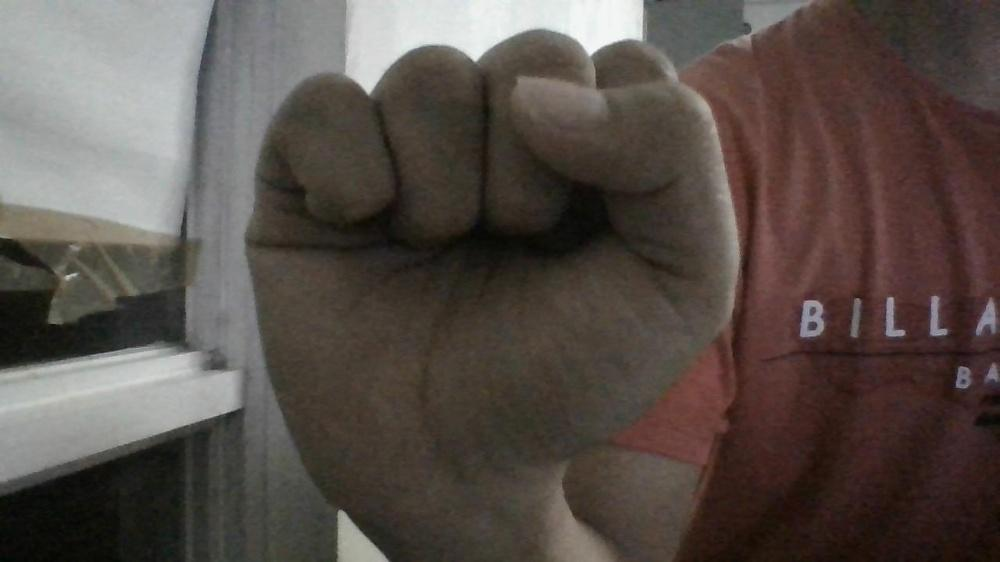s: (241, 27, 743, 488)
